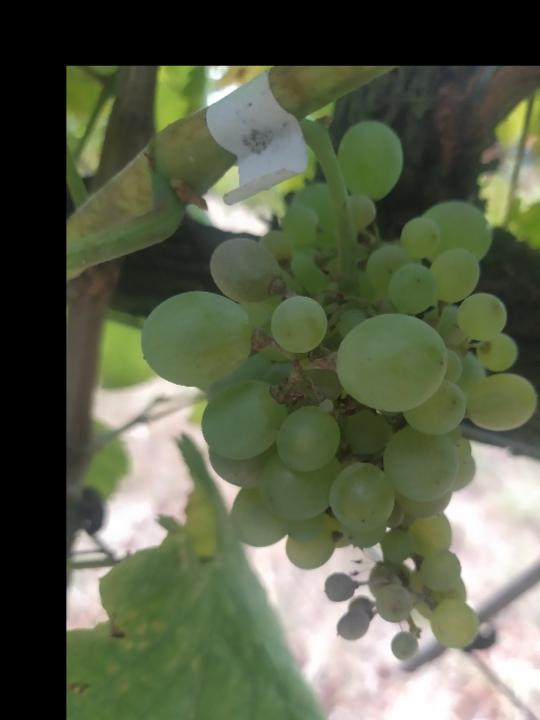grape: (138, 117, 540, 663)
